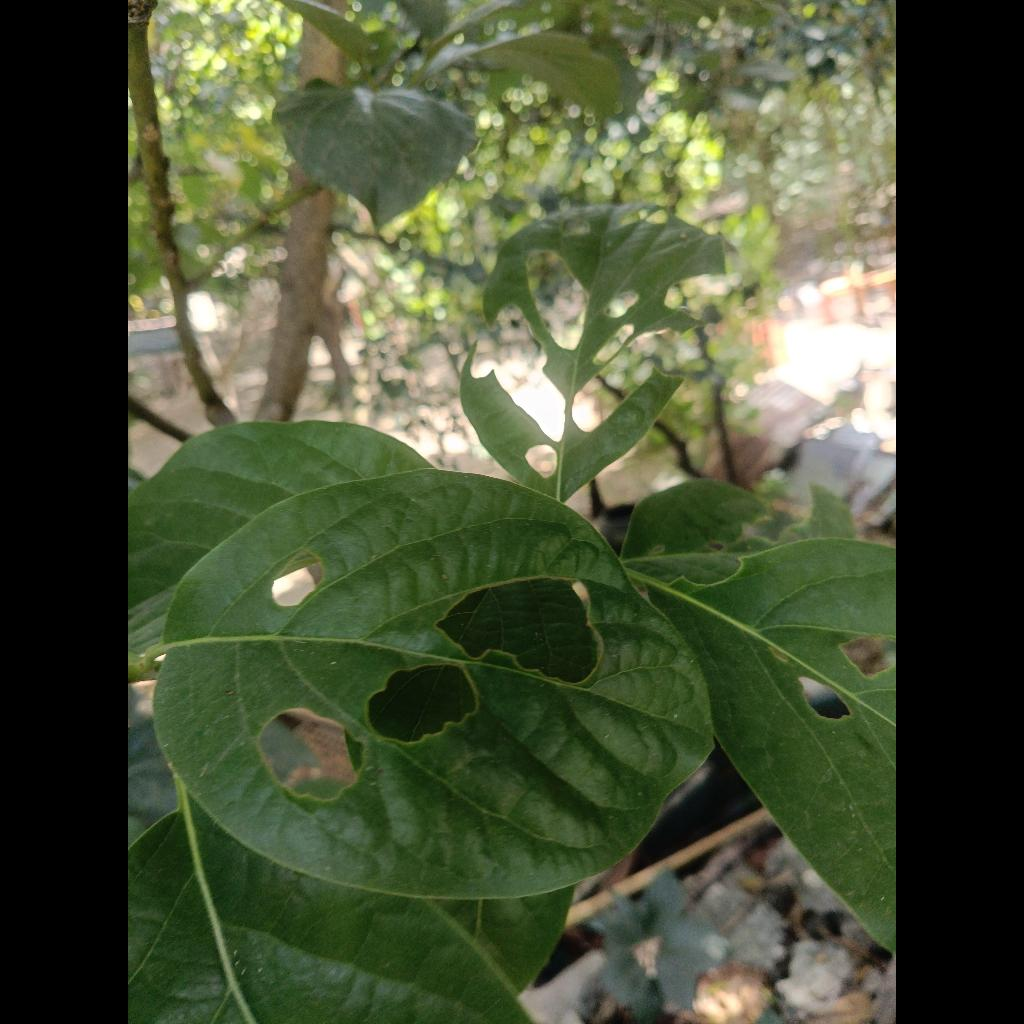Pest Infested: (156, 468, 710, 898)
